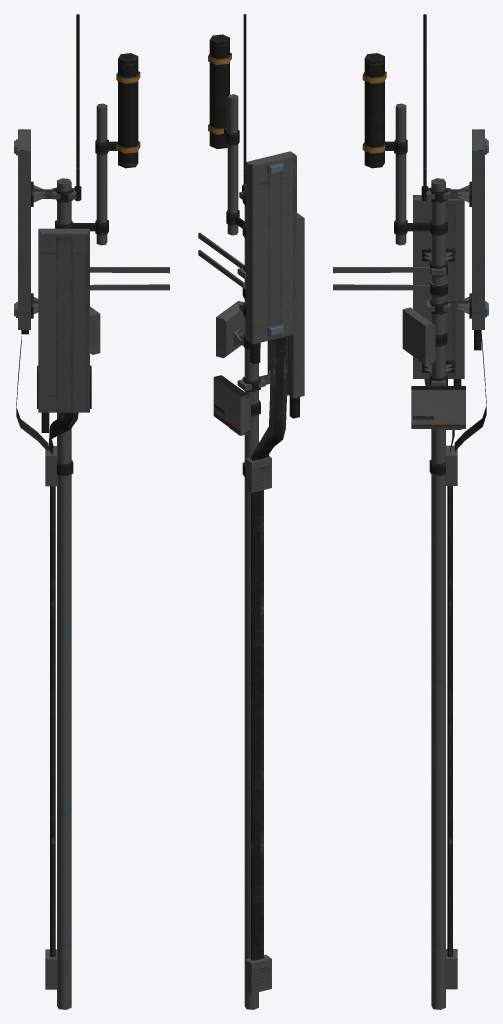
Rendered from Antenna_03_L1.fbx.
3 views of the same model, side by side, from view 1: azimuth 90°, elevation 25°; view 2: azimuth 210°, elevation 25°; view 3: azimuth 270°, elevation 25° (orthographic).
Visible parts, largest first — view 1: polySurface1619; view 2: polySurface1619; view 3: polySurface1619.
Boxes of the visible parts, x1,y1,x2,y2 form: polySurface1619: (14, 14, 169, 1009); polySurface1619: (198, 14, 304, 1009); polySurface1619: (333, 14, 488, 1009).
Size of the model in its own units: 48.11 by 656 by 93.34.
